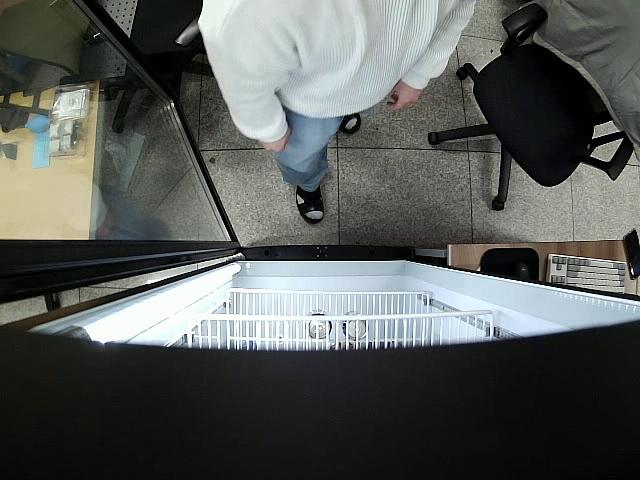00_hand: (387, 82, 421, 114)
